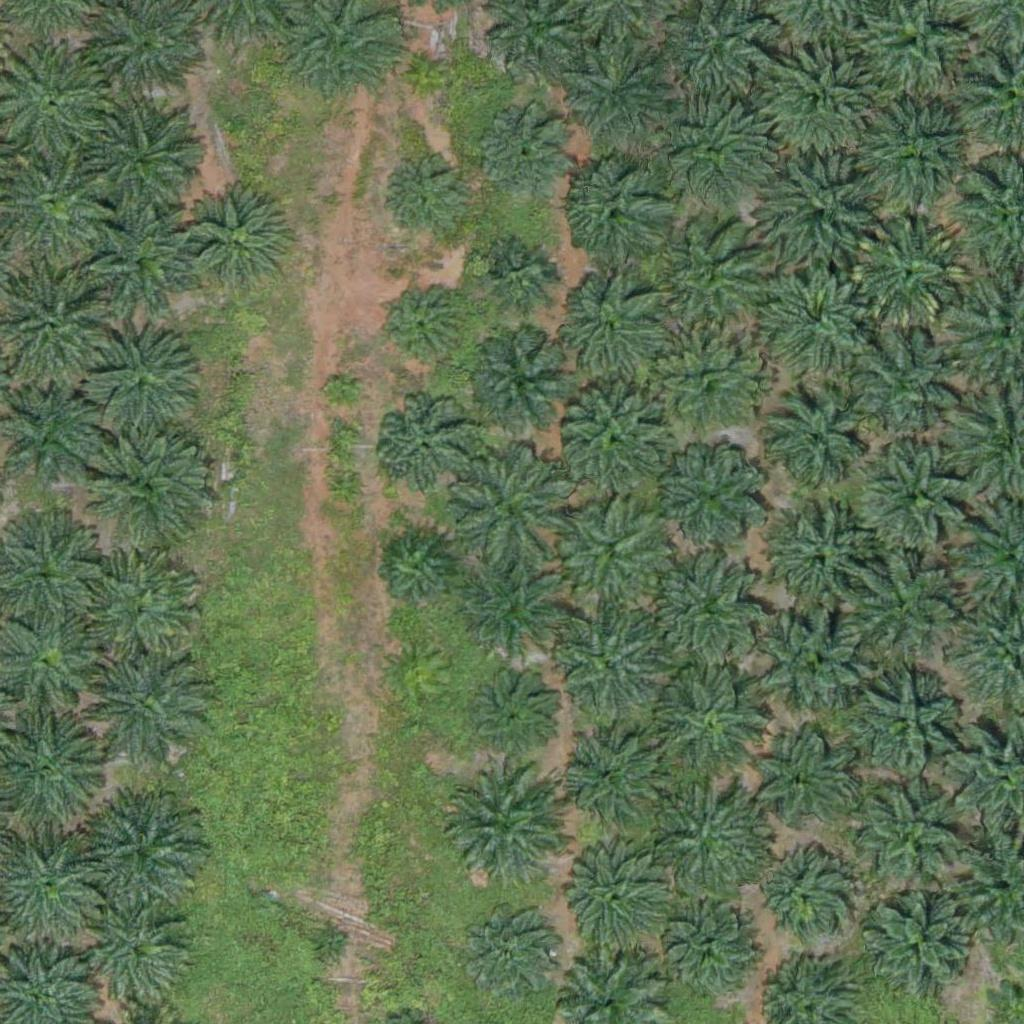Kelapa_Sawit: (78, 100, 203, 226), (84, 321, 209, 447), (83, 417, 208, 543), (445, 443, 570, 569), (78, 547, 203, 673), (82, 647, 207, 773), (78, 792, 203, 918), (438, 763, 563, 889), (848, 777, 973, 903), (650, 778, 775, 903), (859, 93, 972, 207), (654, 219, 767, 332), (648, 325, 761, 438), (560, 386, 673, 499), (550, 270, 663, 383), (560, 154, 673, 267), (565, 36, 678, 149), (181, 189, 294, 302), (658, 436, 771, 549), (766, 506, 879, 619), (653, 551, 766, 664), (653, 664, 766, 777), (751, 602, 864, 715), (865, 892, 978, 1005), (762, 45, 874, 159), (87, 203, 199, 317), (845, 553, 957, 667), (853, 215, 965, 328), (852, 331, 964, 444), (759, 384, 871, 497), (759, 260, 871, 373), (766, 158, 878, 271), (657, 93, 769, 206), (860, 440, 972, 553), (558, 502, 670, 615), (459, 553, 571, 666), (554, 609, 666, 722), (556, 842, 668, 955), (847, 666, 959, 779), (478, 104, 578, 205), (470, 335, 570, 436), (89, 907, 189, 1008), (459, 902, 559, 1003), (562, 730, 662, 831), (660, 902, 760, 1003), (750, 730, 850, 831), (752, 847, 852, 948), (374, 398, 474, 498), (383, 156, 471, 244), (381, 284, 469, 372), (471, 667, 558, 755), (380, 532, 455, 608), (482, 239, 557, 314), (416, 55, 454, 93), (310, 924, 348, 962), (324, 375, 361, 413)
